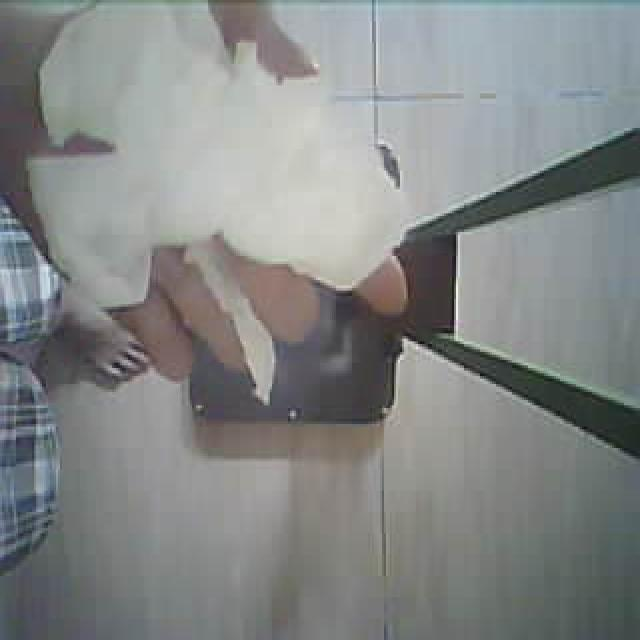Paper: (28, 3, 412, 325)
